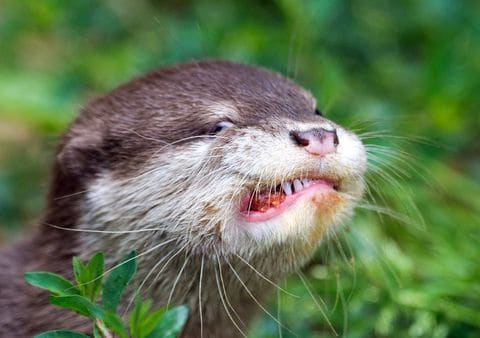meerkat: (17, 63, 375, 333)
